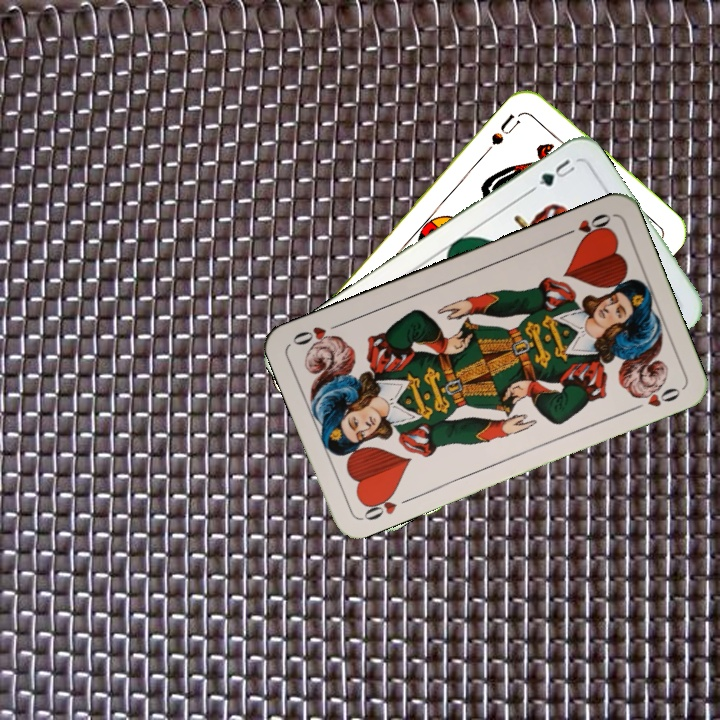GU: (534, 154, 580, 189)
HO: (358, 487, 415, 523), (557, 209, 614, 242)
SU: (482, 110, 523, 155)
